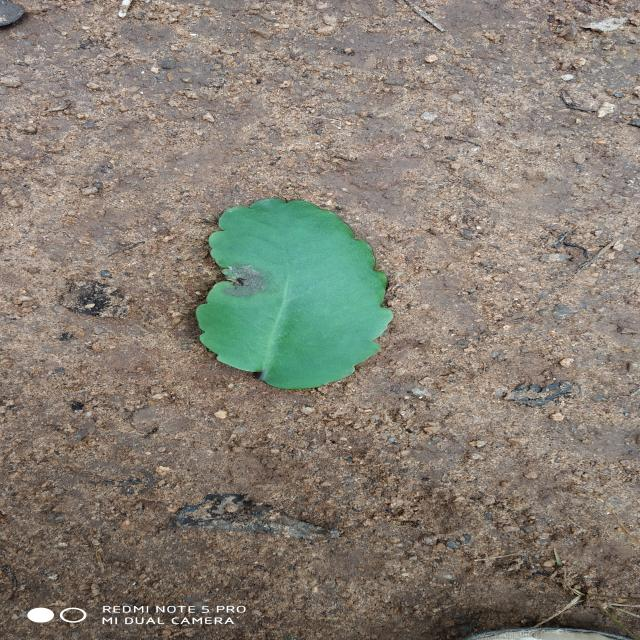defectedspinach: (222, 264, 269, 298)
spinach: (196, 199, 393, 389)
